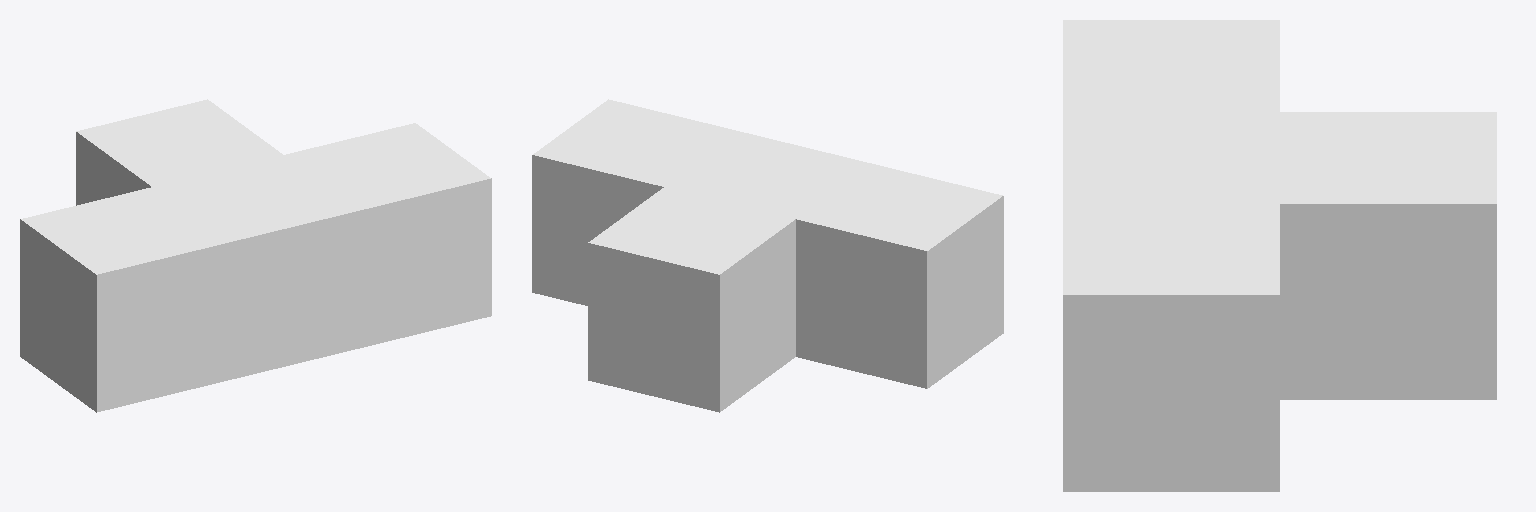
URDF robot description (T.urdf):
<?xml version="0.0" ?>
<robot name="T.urdf">
  <link name="baseLink">
    <contact>
      <lateral_friction value="0.8"/>
      <rolling_friction value="0.001"/>
      <contact_cfm value="0.0"/>
      <contact_erp value="1.0"/>
    </contact>
    <inertial>
    <origin rpy="0 0 0" xyz="0.0 0.0 0.0"/>
       <mass value=".1"/>
       <inertia ixx="1e-3" ixy="0" ixz="0" iyy="1e-3" iyz="0" izz="1e-3"/>
    </inertial>
    <visual>
      <origin xyz="0 0 0" rpy="0 0 0"/>
      <geometry>
        <mesh filename="T.obj" scale="1 1 1"/>
      </geometry>
      <material name="white">
        <color rgba="1. 1. 1. 1."/>
      </material>
    </visual>
    <collision>
      <origin xyz="0 0 0" rpy="0 0 0"/>
      <geometry>
        <mesh filename="T.obj" scale="1 1 1"/>
      </geometry>
    </collision>
  </link>
</robot>

--- What the picture shows (computed from the rendered views, not written in the file) ---
Views: 3 orthographic renders of the robot side by side, from view 1: azimuth 30°, elevation 25°; view 2: azimuth 150°, elevation 25°; view 3: azimuth 270°, elevation 25°.
Model T.urdf with 1 links and 0 joints (none), rooted at baseLink, posed all joints at 0.
Links seen in each view (by area): view 1: baseLink; view 2: baseLink; view 3: baseLink.
Link boxes in pixels (left/top/right/bottom): baseLink: left=20, top=99, right=491, bottom=412; baseLink: left=532, top=99, right=1003, bottom=412; baseLink: left=1063, top=20, right=1496, bottom=491.
Bounding box of the posed robot: 0.15 × 0.1 × 0.05 m (x, y, z).
Meshes: 1 distinct files referenced, 1 mesh visuals loaded (1 OBJ).